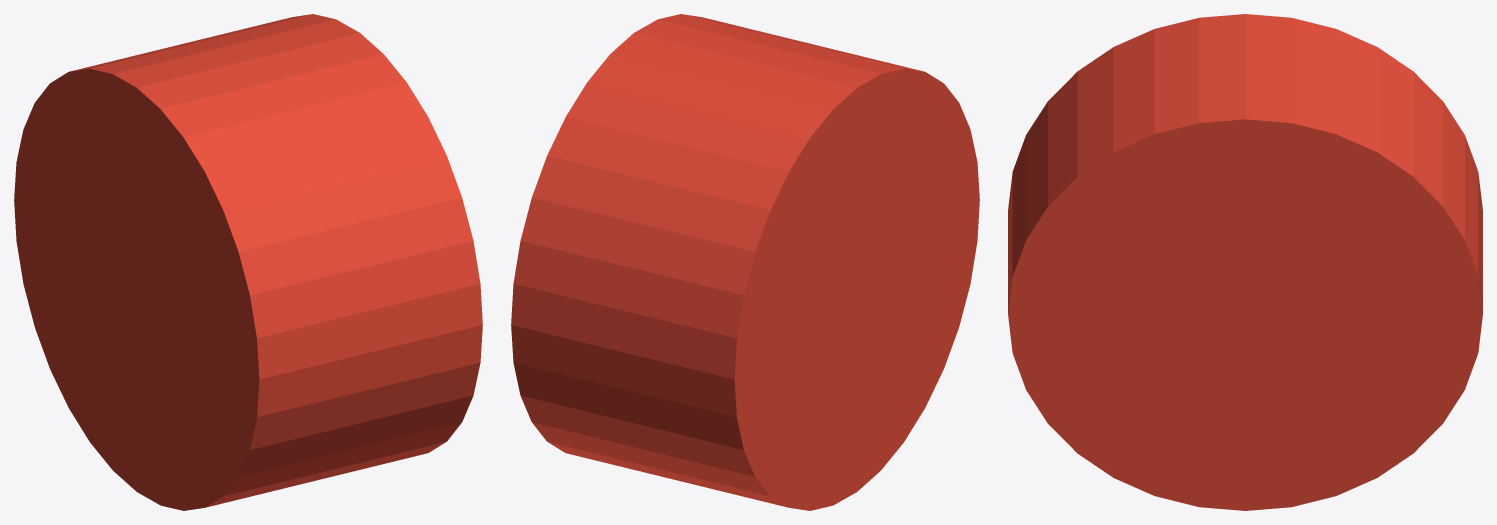
Rendered from button.fbx.
3 views of the same model, side by side, from view 1: azimuth 30°, elevation 25°; view 2: azimuth 150°, elevation 25°; view 3: azimuth 270°, elevation 25° (orthographic). The views are drawn at different scales.
Visible parts, largest first — view 1: Cylinder; view 2: Cylinder; view 3: Cylinder.
Part boxes in pixels (x1,y1,x2,y2): Cylinder: [14, 14, 482, 510]; Cylinder: [511, 14, 979, 510]; Cylinder: [1008, 14, 1482, 510].
Bounding box in the file's own units: 93.68 × 162 × 178.
